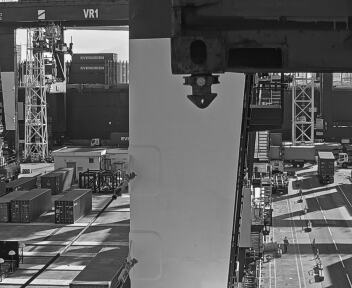twist_lock_2: (104, 54, 159, 92)
